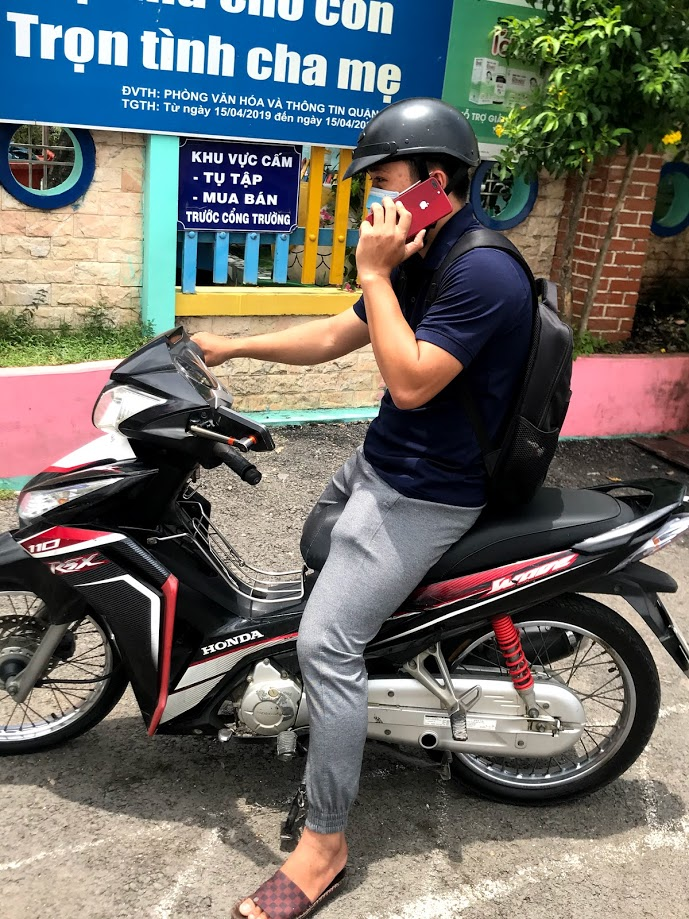dieu khien xe may: (9, 96, 522, 682)
su dung dien thoai: (344, 99, 479, 295)
